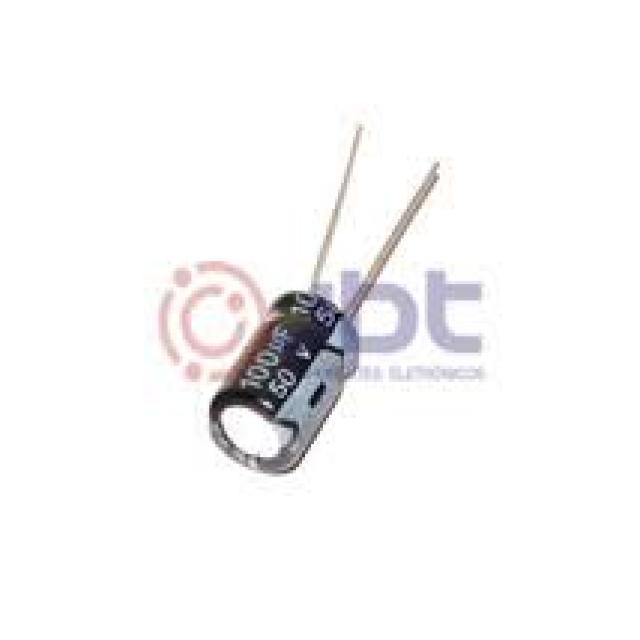Capacitor: (206, 167, 440, 477)
